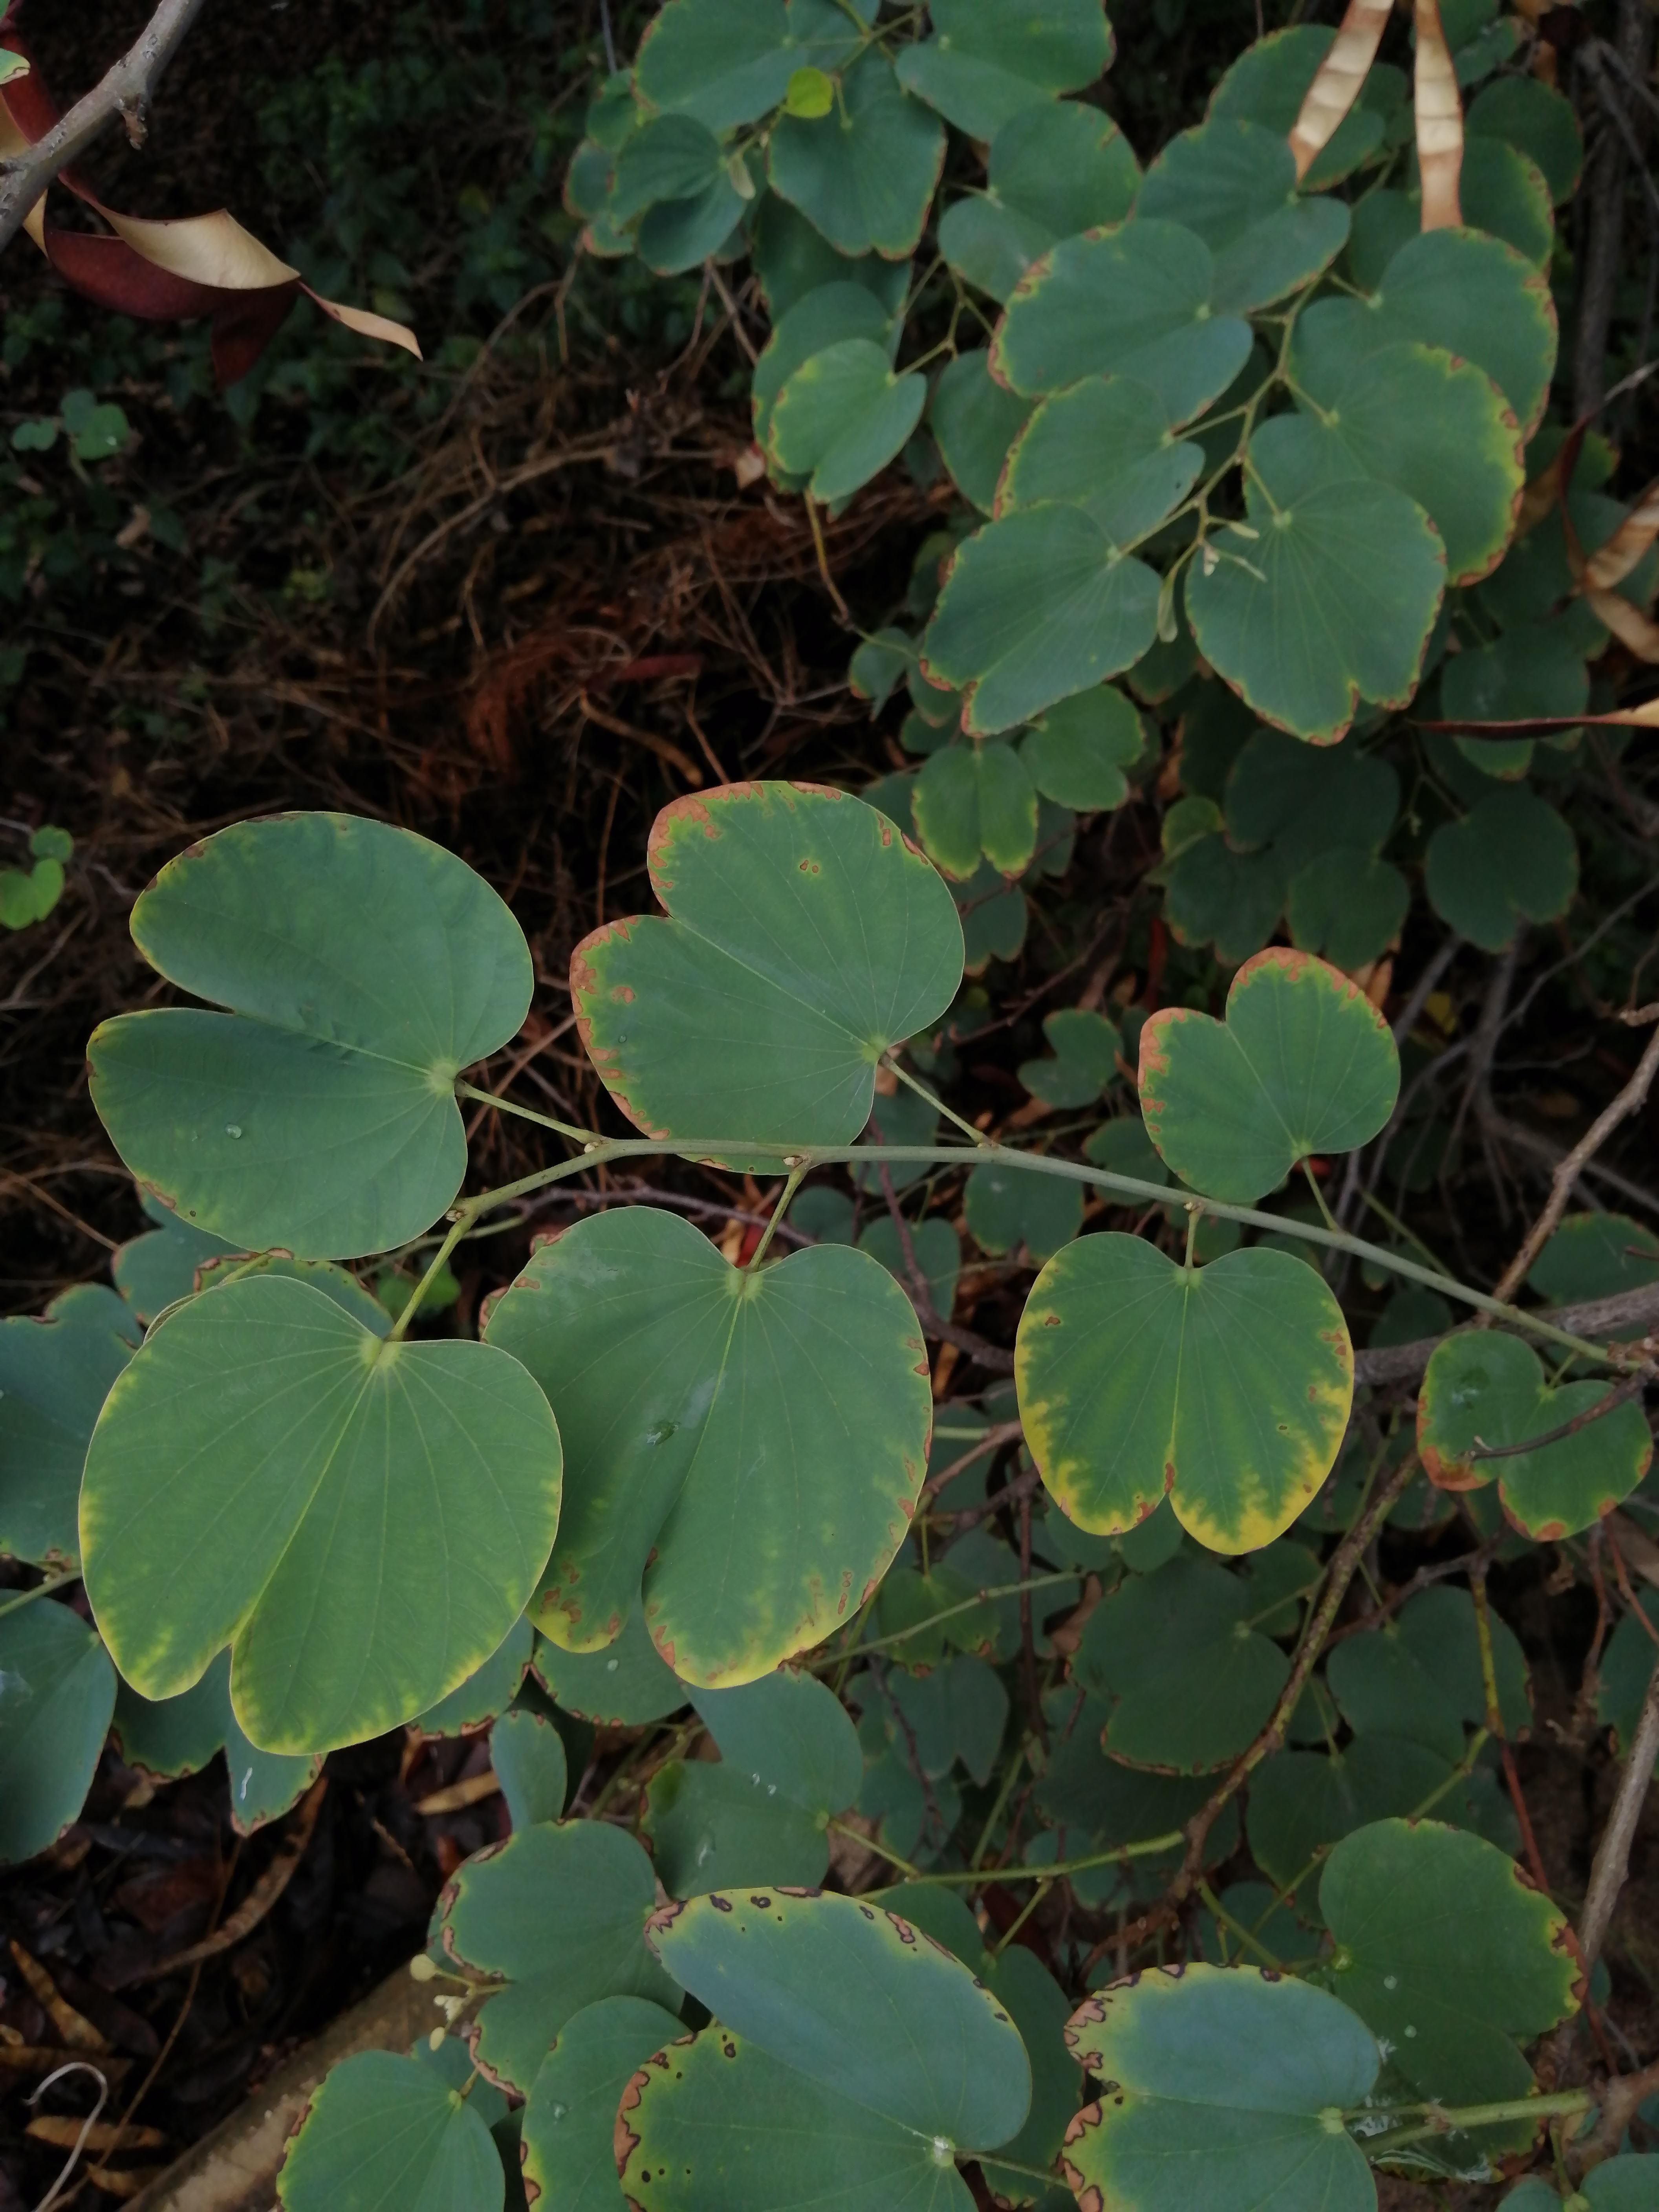healthy: (52, 1240, 570, 1773), (77, 796, 538, 1268)
nothealthy: (479, 1231, 969, 1681), (556, 763, 936, 1190), (599, 1862, 1039, 2212), (993, 1228, 1361, 1585), (1051, 1916, 1399, 2212), (1304, 1797, 1607, 2134), (1117, 932, 1424, 1226), (1248, 315, 1537, 604), (423, 1824, 697, 2095), (958, 219, 1279, 439)
